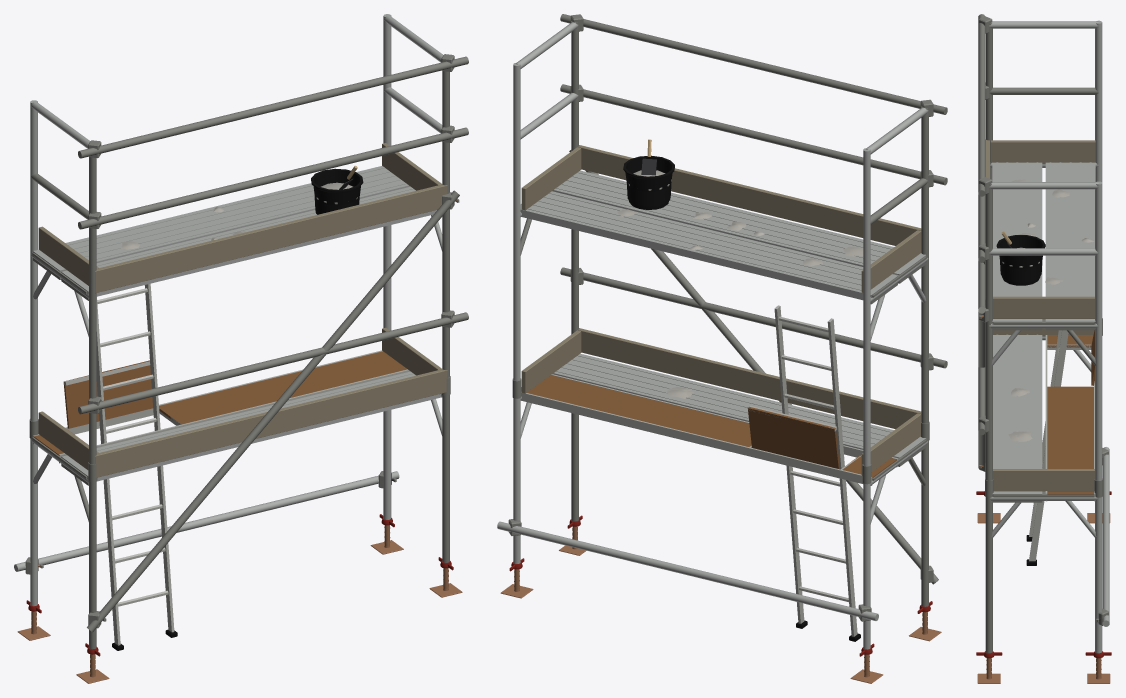
Rendered from scaffold.glb.
The picture shows the model from 3 angles, left to right: view 1: azimuth 30°, elevation 25°; view 2: azimuth 150°, elevation 25°; view 3: azimuth 270°, elevation 25°; orthographic projection. The views are drawn at different scales.
Visible parts, largest first — view 1: teil5, teil14, teil8, teil4, teil10, teil12, teil11, teil6, teil15, teil0; view 2: teil8, teil14, teil5, teil4, teil10, teil12, teil11, teil15, teil6, teil9, teil0; view 3: teil8, teil4, teil5, teil14, teil10, teil6, teil15, teil12, teil0, teil9, teil11, teil1.
Boxes of the visible parts, bbox=[...] form: teil5: bbox=[29, 56, 468, 649]; teil14: bbox=[38, 143, 447, 477]; teil8: bbox=[33, 166, 441, 481]; teil4: bbox=[14, 14, 443, 606]; teil10: bbox=[34, 351, 407, 455]; teil12: bbox=[96, 283, 174, 645]; teil11: bbox=[33, 350, 410, 463]; teil6: bbox=[25, 54, 459, 628]; teil15: bbox=[311, 168, 363, 214]; teil0: bbox=[17, 540, 462, 683]; teil8: bbox=[520, 170, 926, 458]; teil14: bbox=[521, 145, 921, 475]; teil5: bbox=[512, 14, 947, 606]; teil4: bbox=[497, 22, 928, 649]; teil10: bbox=[521, 375, 896, 477]; teil12: bbox=[774, 305, 857, 636]; teil11: bbox=[521, 374, 897, 485]; teil15: bbox=[623, 155, 674, 209]; teil6: bbox=[508, 14, 933, 621]; teil9: bbox=[617, 209, 863, 412]; teil0: bbox=[500, 545, 941, 683]; teil8: bbox=[992, 162, 1095, 494]; teil4: bbox=[989, 20, 1109, 653]; teil5: bbox=[978, 14, 1102, 653]; teil14: bbox=[985, 139, 1095, 491]; teil10: bbox=[1047, 330, 1094, 494]; teil6: bbox=[979, 16, 1108, 625]; teil15: bbox=[996, 235, 1045, 285]; teil12: bbox=[1029, 330, 1068, 561]; teil0: bbox=[977, 513, 1110, 683]; teil9: bbox=[1008, 179, 1094, 442]; teil11: bbox=[1045, 335, 1095, 501]; teil1: bbox=[980, 315, 1101, 679].
Bounding box in the file's own units: 2.74 × 3.63 × 0.89.
